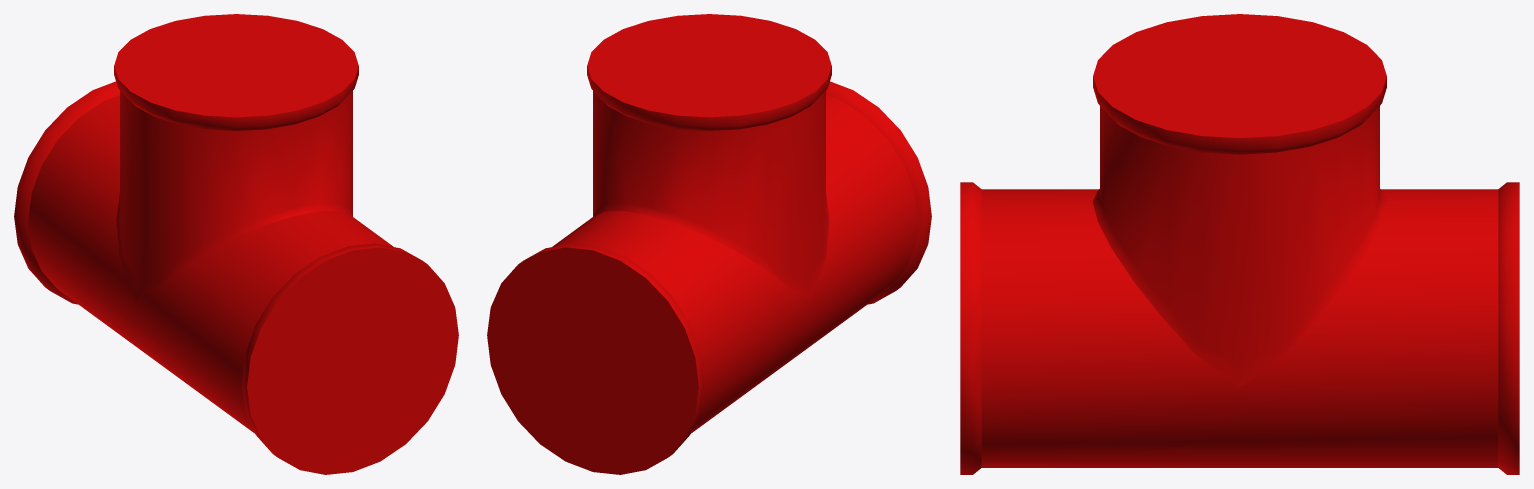
The picture shows the model from 3 angles, left to right: view 1: azimuth 30°, elevation 25°; view 2: azimuth 150°, elevation 25°; view 3: azimuth 270°, elevation 25°; orthographic projection. The views are drawn at different scales.
Parts seen in each view (by area): view 1: Mesh; view 2: Mesh; view 3: Mesh.
Boxes of the visible parts, <box> form: Mesh: <box>14,14,458,474</box>; Mesh: <box>487,14,931,474</box>; Mesh: <box>960,14,1519,474</box>.
Size of the model in its own units: 0.4202 by 0.6084 by 0.8.
